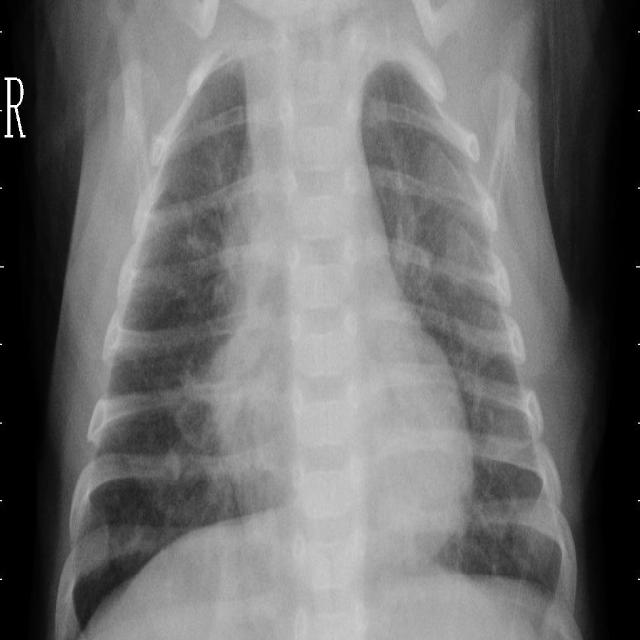low-pneumonia: (173, 177, 240, 415)
